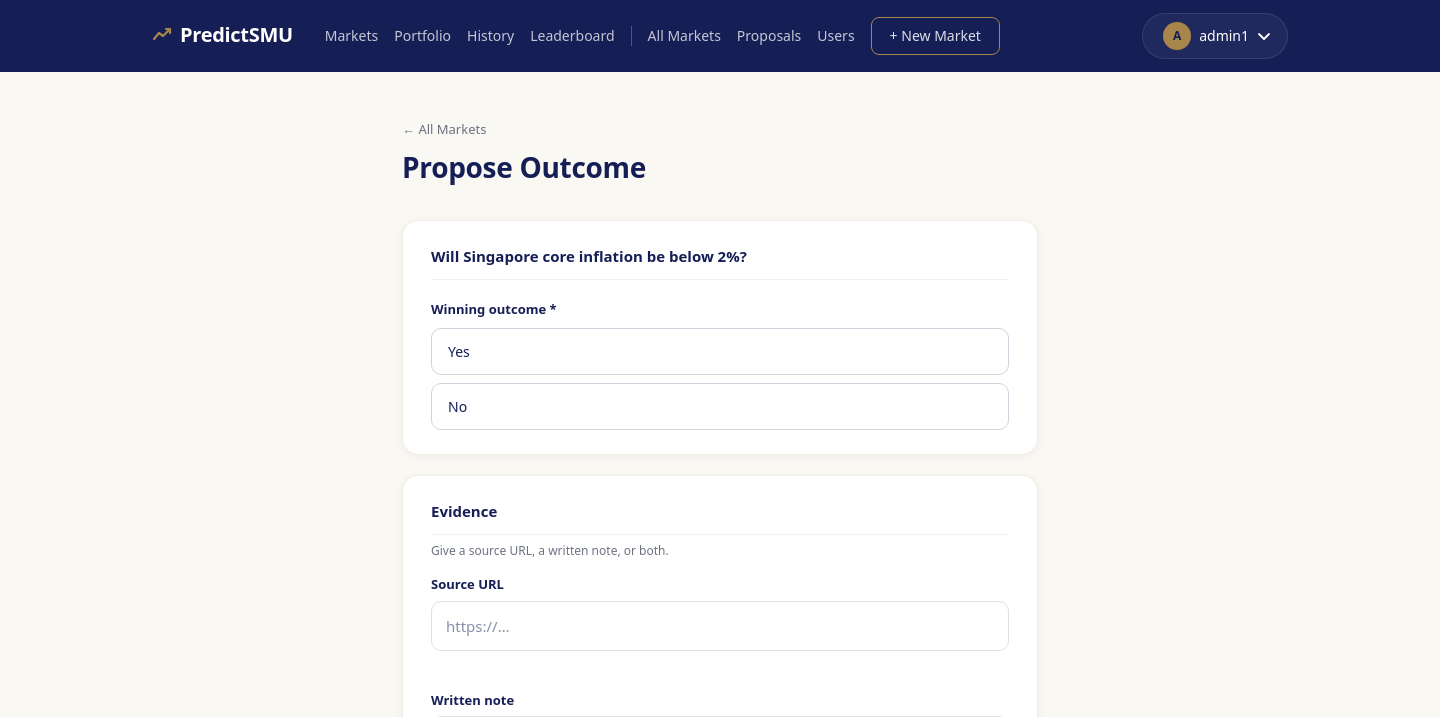
Test case: ProposeOutcomePage › disables submit until an outcome is picked and evidence is given
Expected: the heading "Will Singapore core inflation be below 2%?" is shown, [431,244,1009,280]
Click the button "Yes" at (459, 351), box [431,328,1009,374]
(page scrolled)
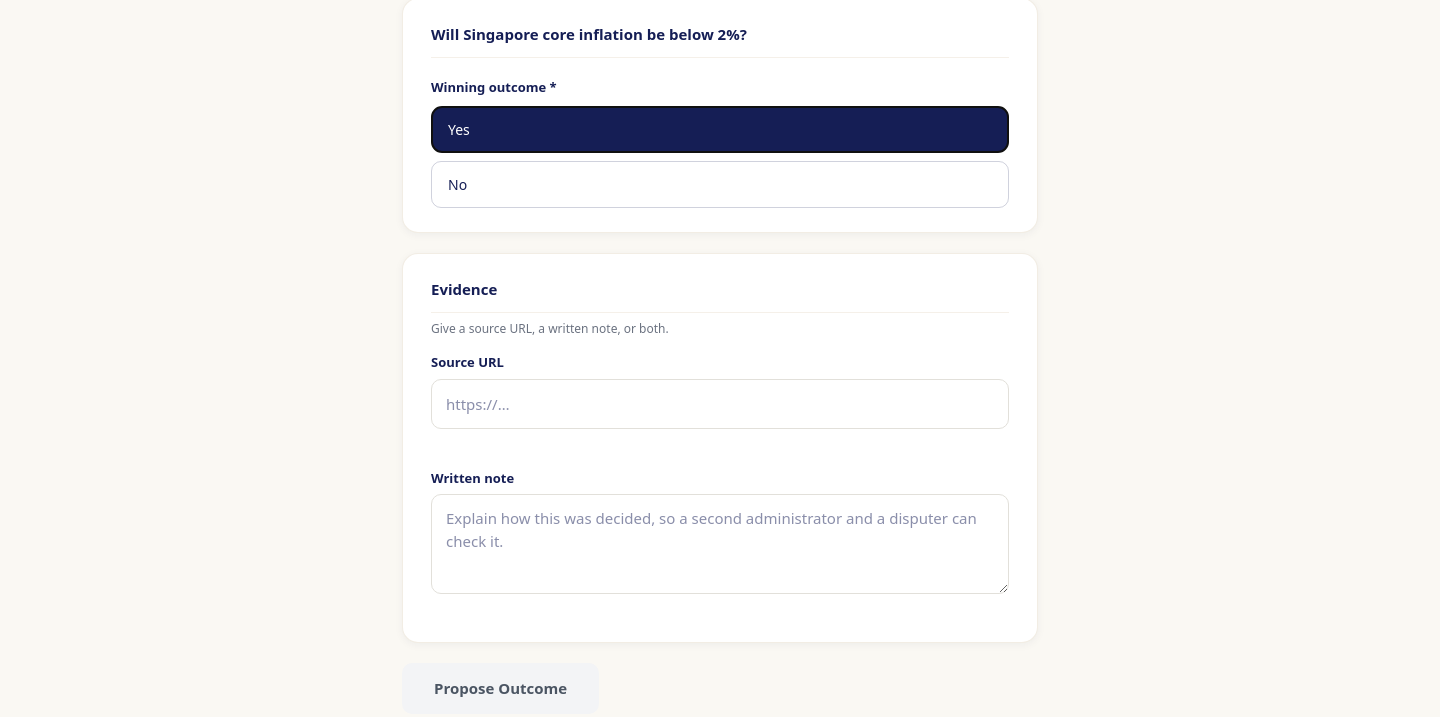
Expected: the button "Propose Outcome" is disabled, [402,663,599,714]
Type "MAS published 1.8% for December." into the text box labelled "Written note" at (720, 544), box [431,494,1009,594]
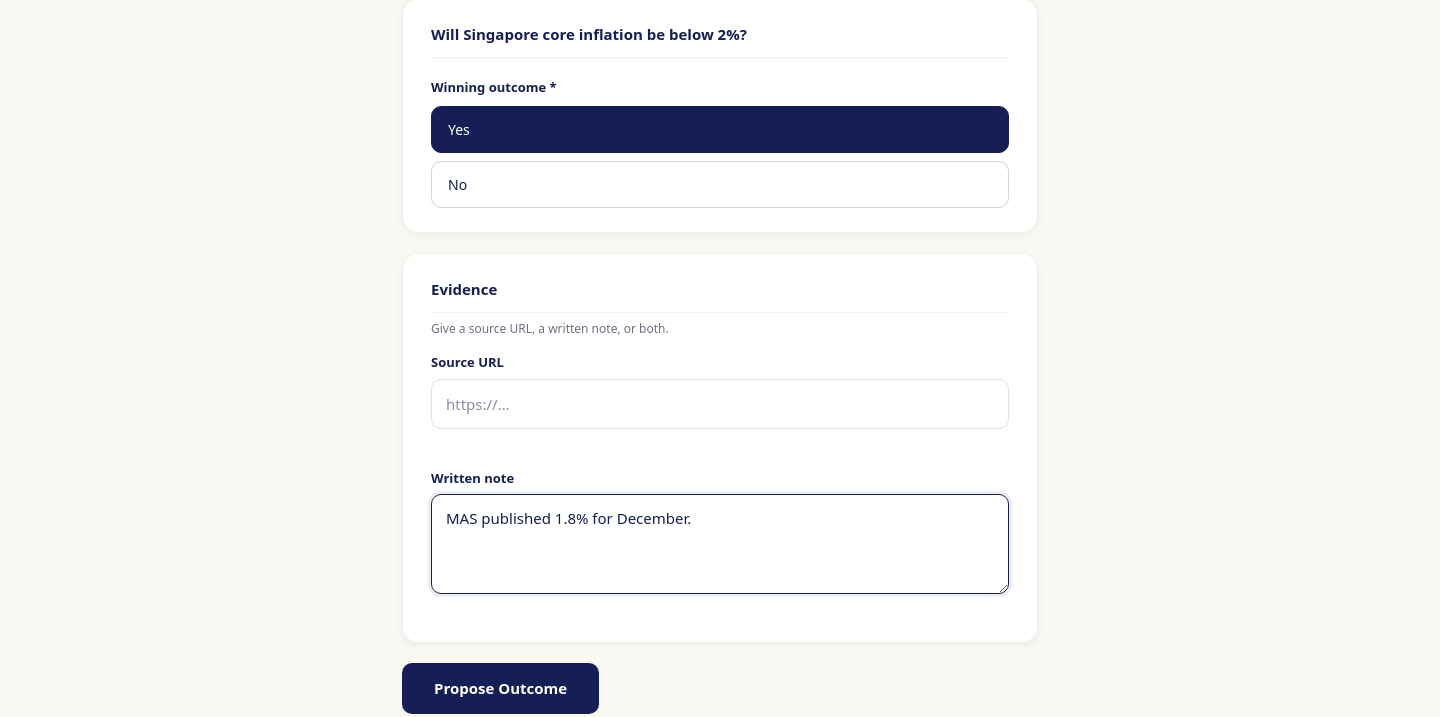
Expected: the button "Propose Outcome" is enabled, [402,663,599,714]
